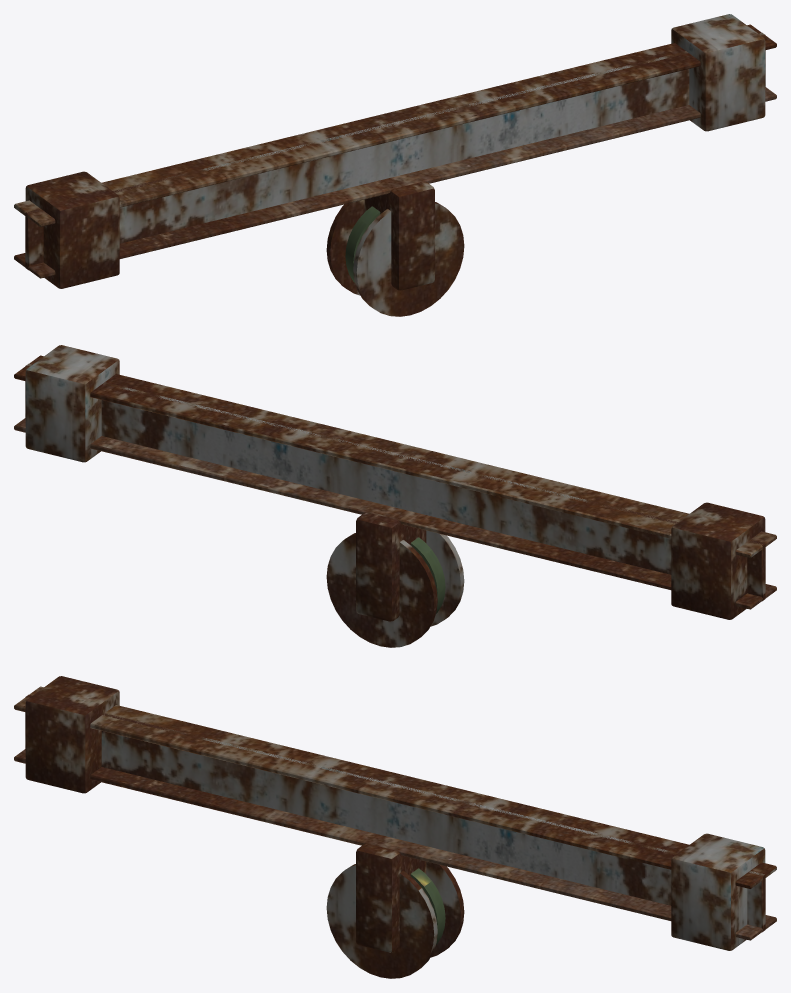
File: lift_head.glb
The picture shows the model from 3 angles, top to bottom: view 1: azimuth 30°, elevation 25°; view 2: azimuth 150°, elevation 25°; view 3: azimuth 330°, elevation 25°; orthographic projection.
Parts seen in each view (by area): view 1: head_iron, sheave; view 2: head_iron, sheave; view 3: head_iron, sheave.
Boxes of the visible parts, left/top/right/bottom form: head_iron: left=14, top=14, right=776, bottom=316; sheave: left=345, top=206, right=380, bottom=282; head_iron: left=14, top=345, right=776, bottom=647; sheave: left=410, top=537, right=445, bottom=613; head_iron: left=14, top=676, right=776, bottom=978; sheave: left=410, top=868, right=445, bottom=944.
Bounding box in the file's own units: 0.96 × 0.24 × 0.1.
2 materials, 2 textured.
